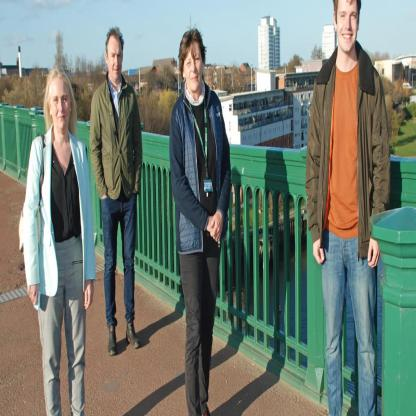person: (300, 3, 396, 412), (160, 14, 240, 415), (20, 56, 92, 415), (84, 16, 148, 363)
